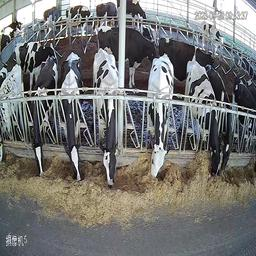cow: (180, 60, 220, 178), (91, 49, 119, 190), (98, 27, 157, 92), (145, 54, 175, 180), (29, 57, 59, 174), (61, 52, 84, 183), (206, 64, 233, 173), (158, 35, 214, 83), (1, 64, 23, 167), (231, 72, 255, 149), (14, 40, 59, 75), (117, 0, 147, 32), (64, 6, 95, 36), (200, 19, 224, 51), (94, 1, 118, 27), (41, 6, 62, 34)
